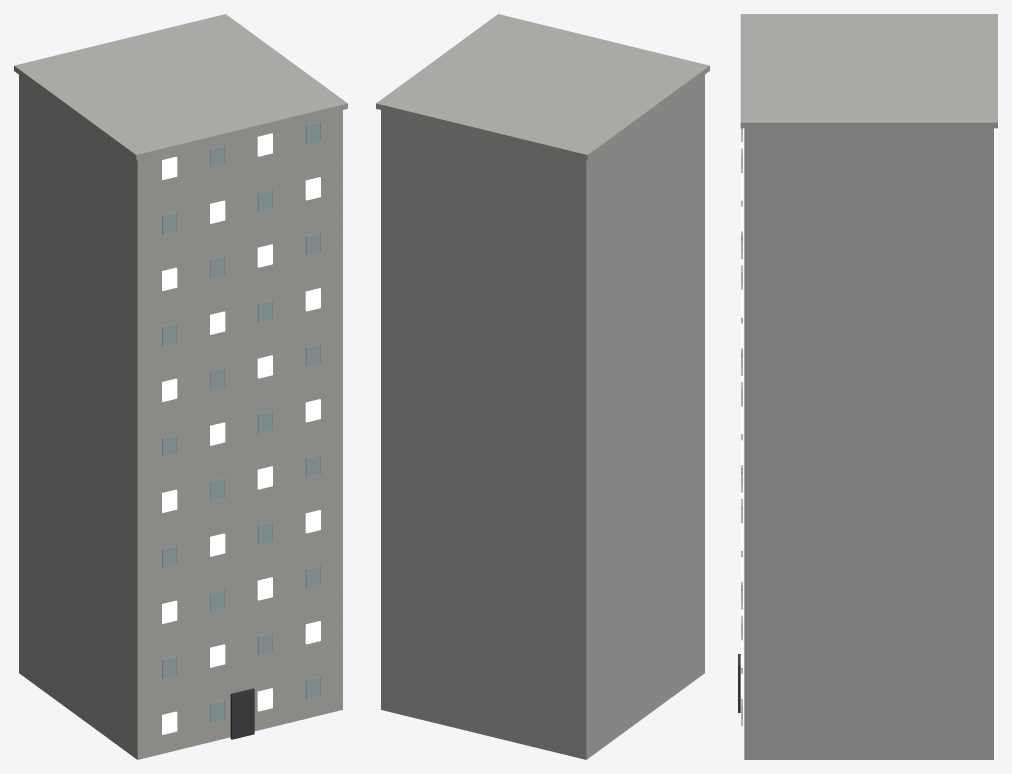
The model's file is tower_01.glb.
3 renders of one model, left to right at view 1: azimuth 30°, elevation 25°; view 2: azimuth 150°, elevation 25°; view 3: azimuth 270°, elevation 25°, orthographic. The views are drawn at different scales.
Visible parts, largest first — view 1: Mass.004, Roof.004, Door.004; view 2: Mass.004, Roof.004; view 3: Mass.004, Roof.004.
Boxes of the visible parts, bbox=[...] form: Mass.004: bbox=[19, 75, 342, 759]; Roof.004: bbox=[14, 14, 347, 160]; Door.004: bbox=[230, 688, 254, 739]; Mass.004: bbox=[381, 75, 704, 759]; Roof.004: bbox=[376, 14, 709, 160]; Mass.004: bbox=[744, 128, 993, 759]; Roof.004: bbox=[740, 14, 997, 128].
Size of the model in its own units: 10.3 by 28.23 by 10.4.
